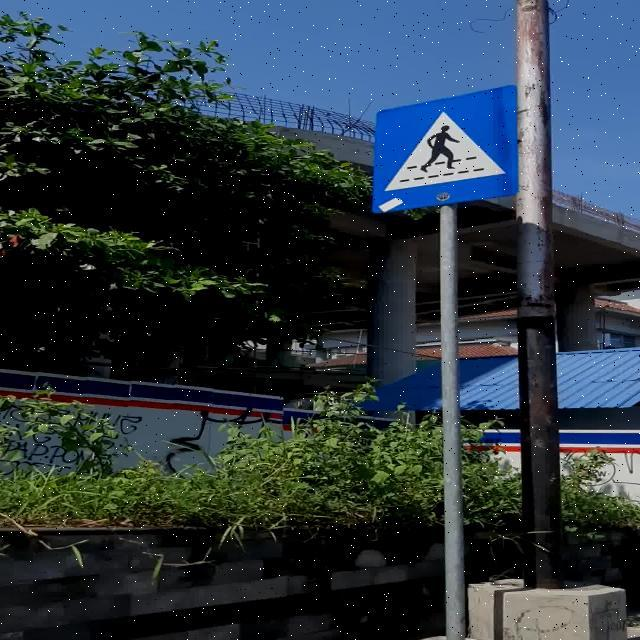Perintah Jalur Penyebrangan: (372, 84, 518, 214)
